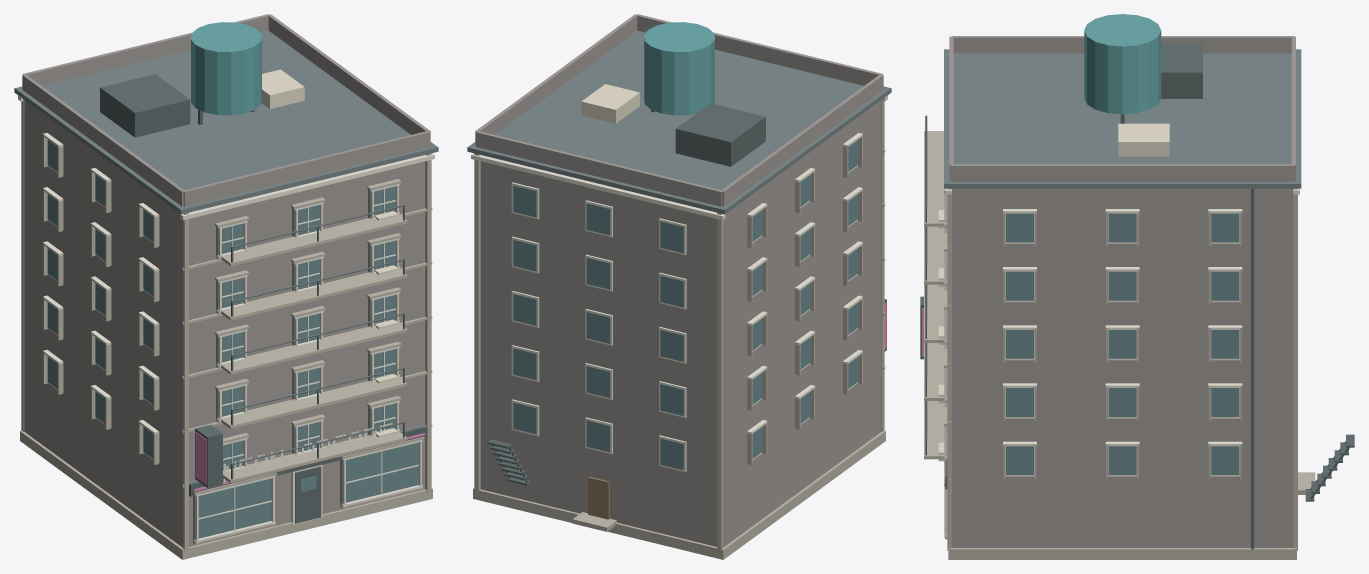
The picture shows the model from 3 angles, left to right: view 1: azimuth 30°, elevation 25°; view 2: azimuth 150°, elevation 25°; view 3: azimuth 270°, elevation 25°; orthographic projection. The views are drawn at different scales.
Bounding box in the file's own units: 14.9 × 23.94 × 20.3.
